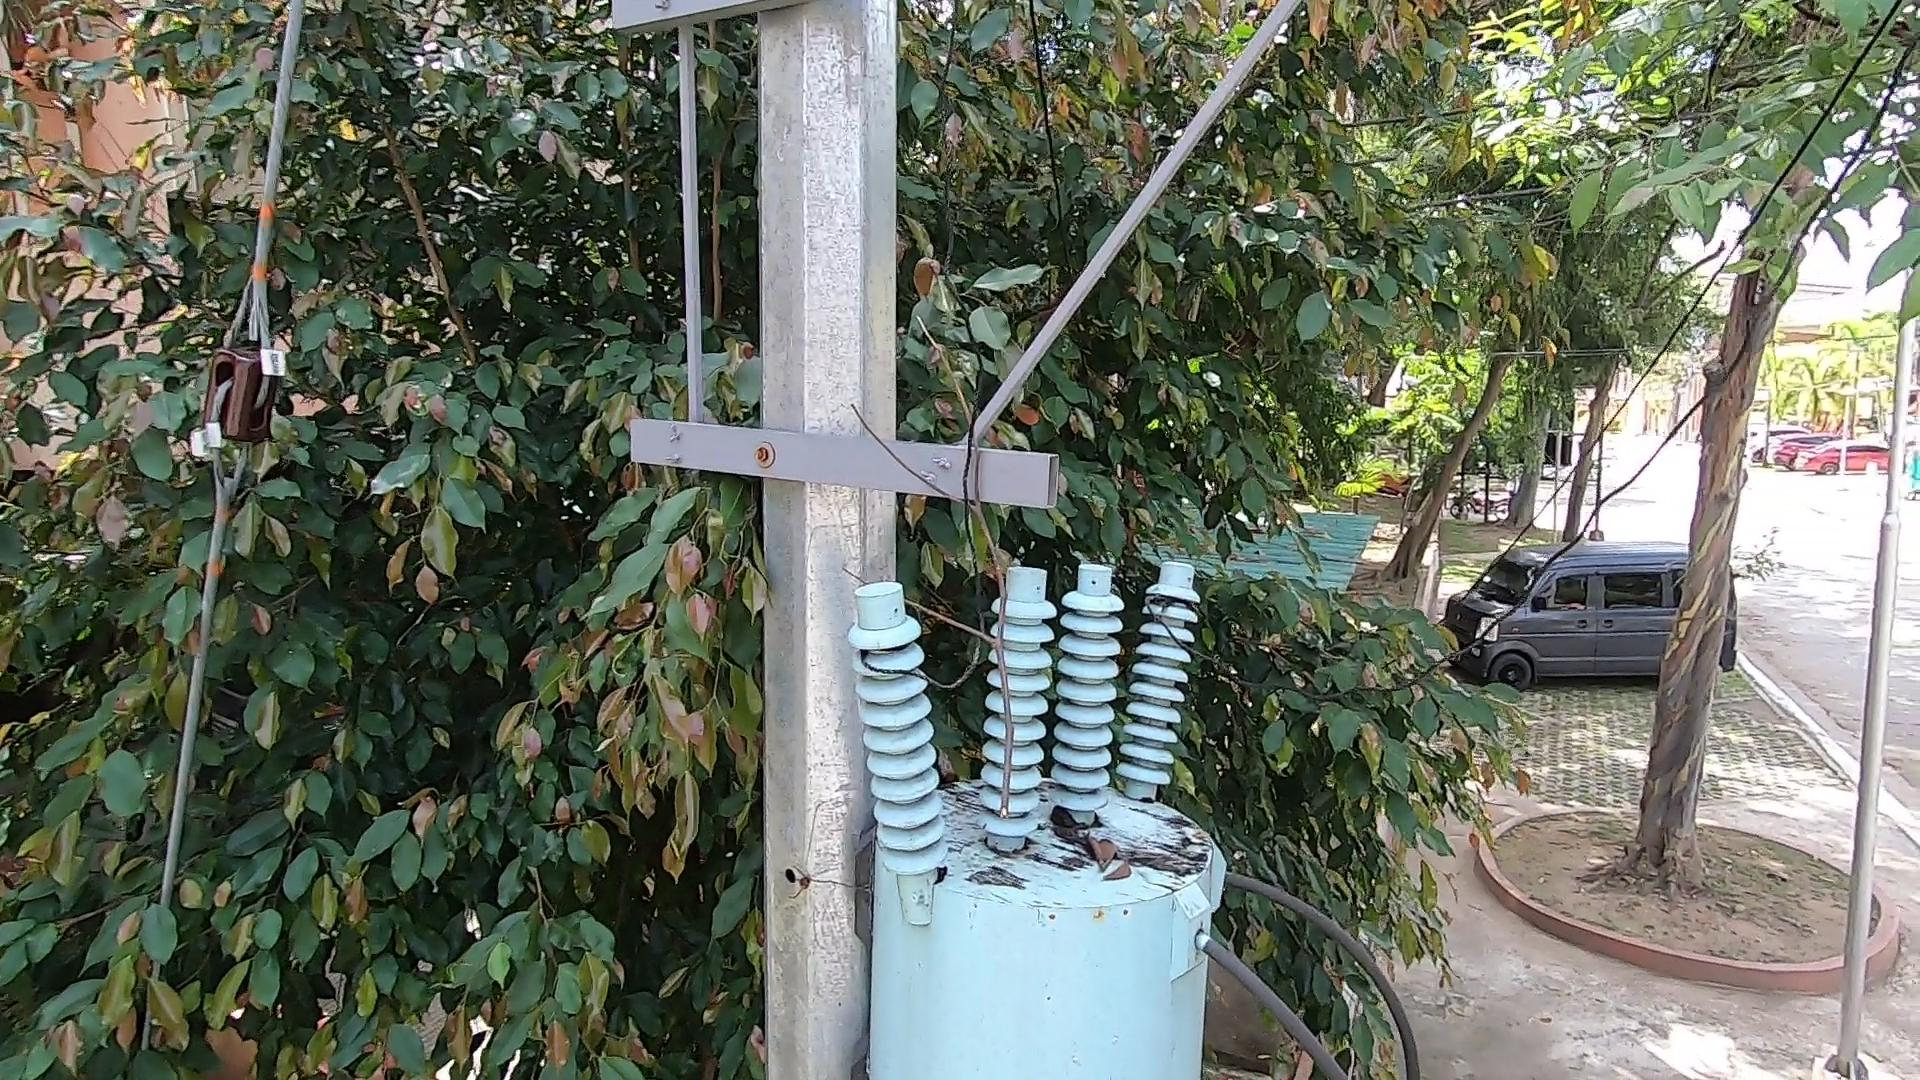leaf: (1044, 800, 1139, 887)
tree branch: (845, 291, 1047, 816)
